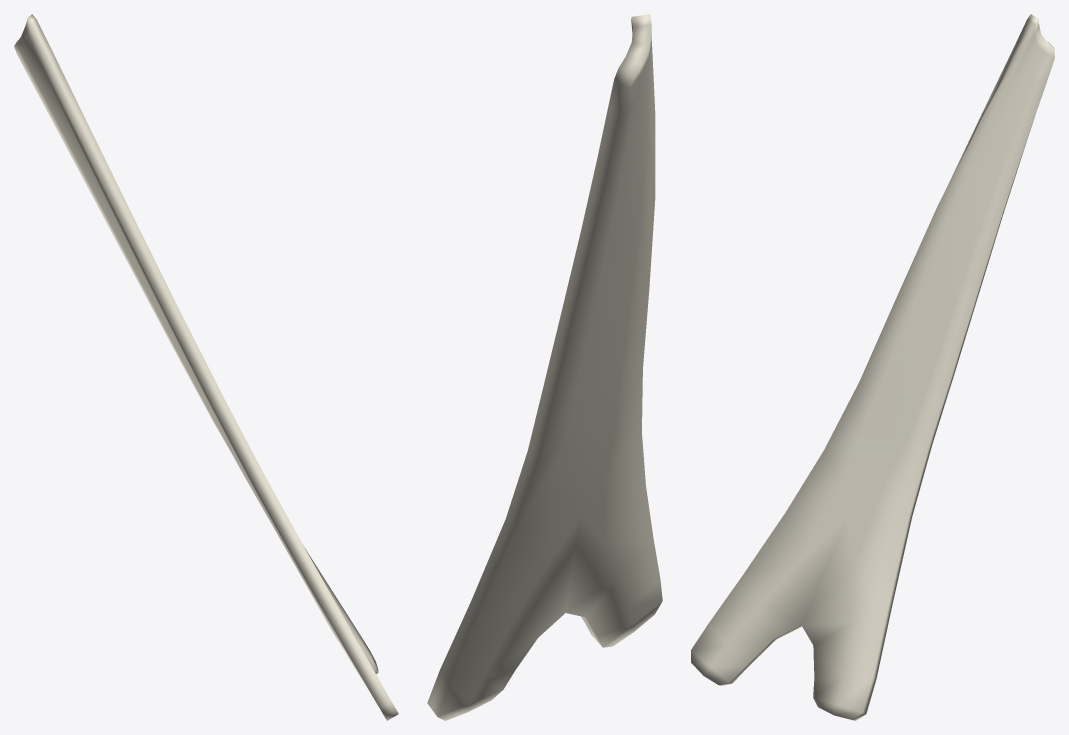
3 views of the same model, side by side, from view 1: azimuth 30°, elevation 25°; view 2: azimuth 150°, elevation 25°; view 3: azimuth 270°, elevation 25° (orthographic). The views are drawn at different scales.
Parts seen in each view (by area): view 1: ZA_a3be020bbbc5427f; view 2: ZA_a3be020bbbc5427f; view 3: ZA_a3be020bbbc5427f.
Part boxes in pixels (x1,y1,x2,y2): ZA_a3be020bbbc5427f: [14, 14, 398, 720]; ZA_a3be020bbbc5427f: [427, 14, 662, 720]; ZA_a3be020bbbc5427f: [691, 14, 1054, 720].
Size of the model in its own units: 0.0108 by 0.0258 by 0.0142.
